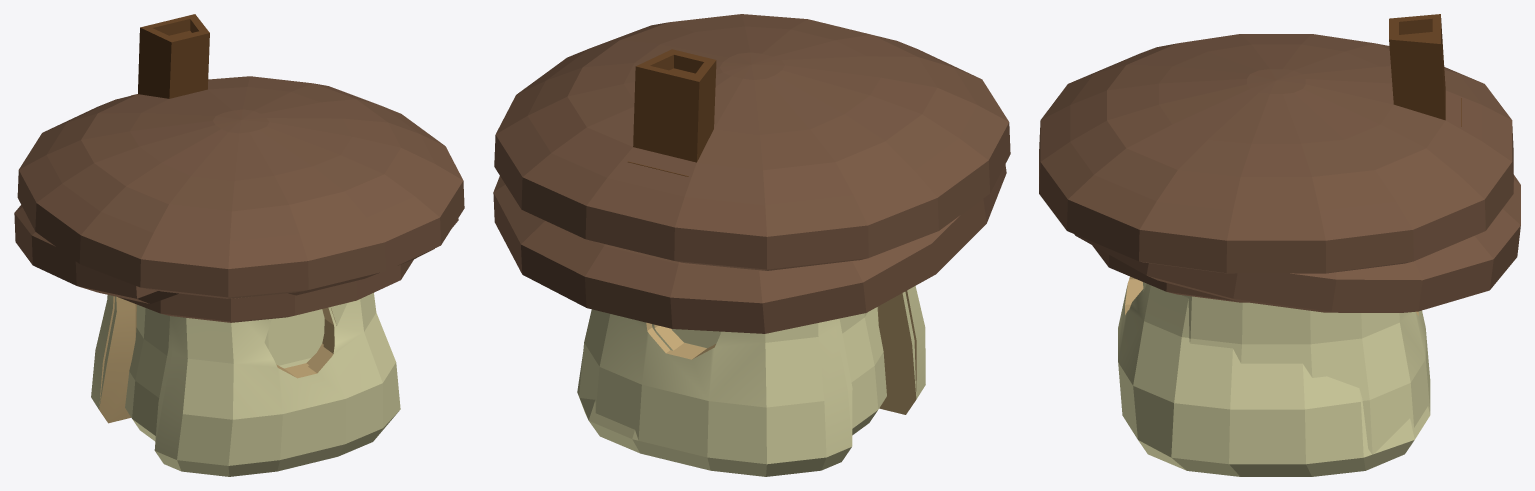
The model's file is BrownMushroomModels.fbx.
The picture shows the model from 3 angles, left to right: view 1: azimuth 30°, elevation 25°; view 2: azimuth 150°, elevation 25°; view 3: azimuth 270°, elevation 25°; orthographic projection. The views are drawn at different scales.
Visible parts, largest first — view 1: BrownMushroomFullGrown, BrownMushroomDecaying, BrownMushroomAdolescent; view 2: BrownMushroomFullGrown, BrownMushroomDecaying, BrownMushroomAdolescent; view 3: BrownMushroomFullGrown, BrownMushroomDecaying, BrownMushroomAdolescent.
Part boxes in pixels (left/top/right/bottom): BrownMushroomFullGrown: left=17, top=14, right=464, bottom=470; BrownMushroomDecaying: left=14, top=94, right=458, bottom=476; BrownMushroomAdolescent: left=118, top=259, right=413, bottom=441; BrownMushroomFullGrown: left=494, top=14, right=1010, bottom=469; BrownMushroomDecaying: left=493, top=161, right=1006, bottom=476; BrownMushroomAdolescent: left=671, top=307, right=886, bottom=435; BrownMushroomFullGrown: left=1039, top=14, right=1513, bottom=454; BrownMushroomDecaying: left=1074, top=98, right=1520, bottom=476; BrownMushroomAdolescent: left=1092, top=245, right=1247, bottom=302.
Bounding box in the file's own units: 38.18 × 34.13 × 38.76.
Materials: 1 (1 with a texture image).
